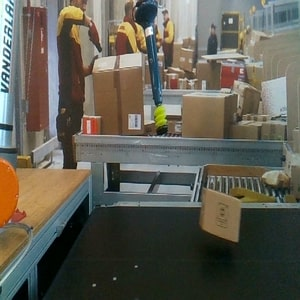box: (199, 187, 243, 244)
